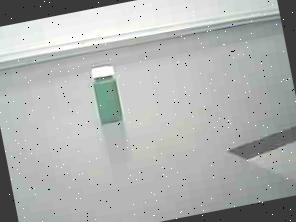Bottle C: (82, 56, 136, 135)
